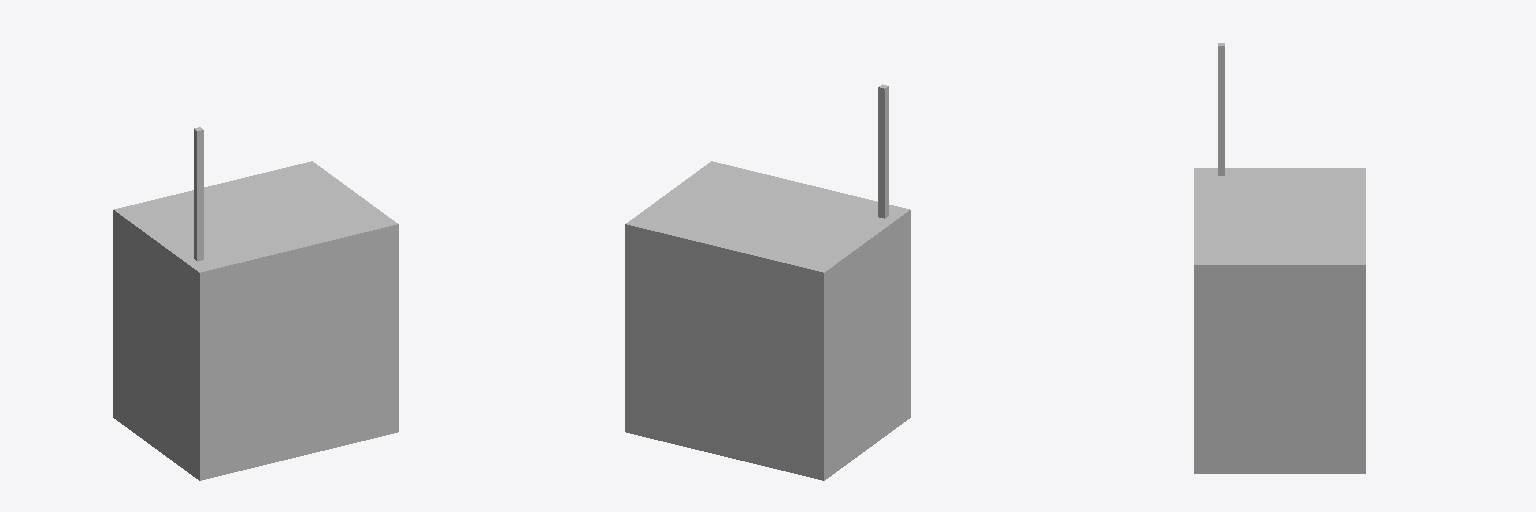
File: radio.obj
The picture shows the model from 3 angles: view 1: azimuth 30°, elevation 25°; view 2: azimuth 150°, elevation 25°; view 3: azimuth 270°, elevation 25°; orthographic projection.
Visible parts, largest first — view 1: Cube_Cube.002; view 2: Cube_Cube.002; view 3: Cube_Cube.002.
Boxes of the visible parts, box(x1,y1,x2,y2) form: Cube_Cube.002: box(113, 127, 398, 480); Cube_Cube.002: box(625, 84, 910, 480); Cube_Cube.002: box(1194, 43, 1365, 473).
Bounding box in the file's own units: 0.6 × 0.9748 × 0.45.